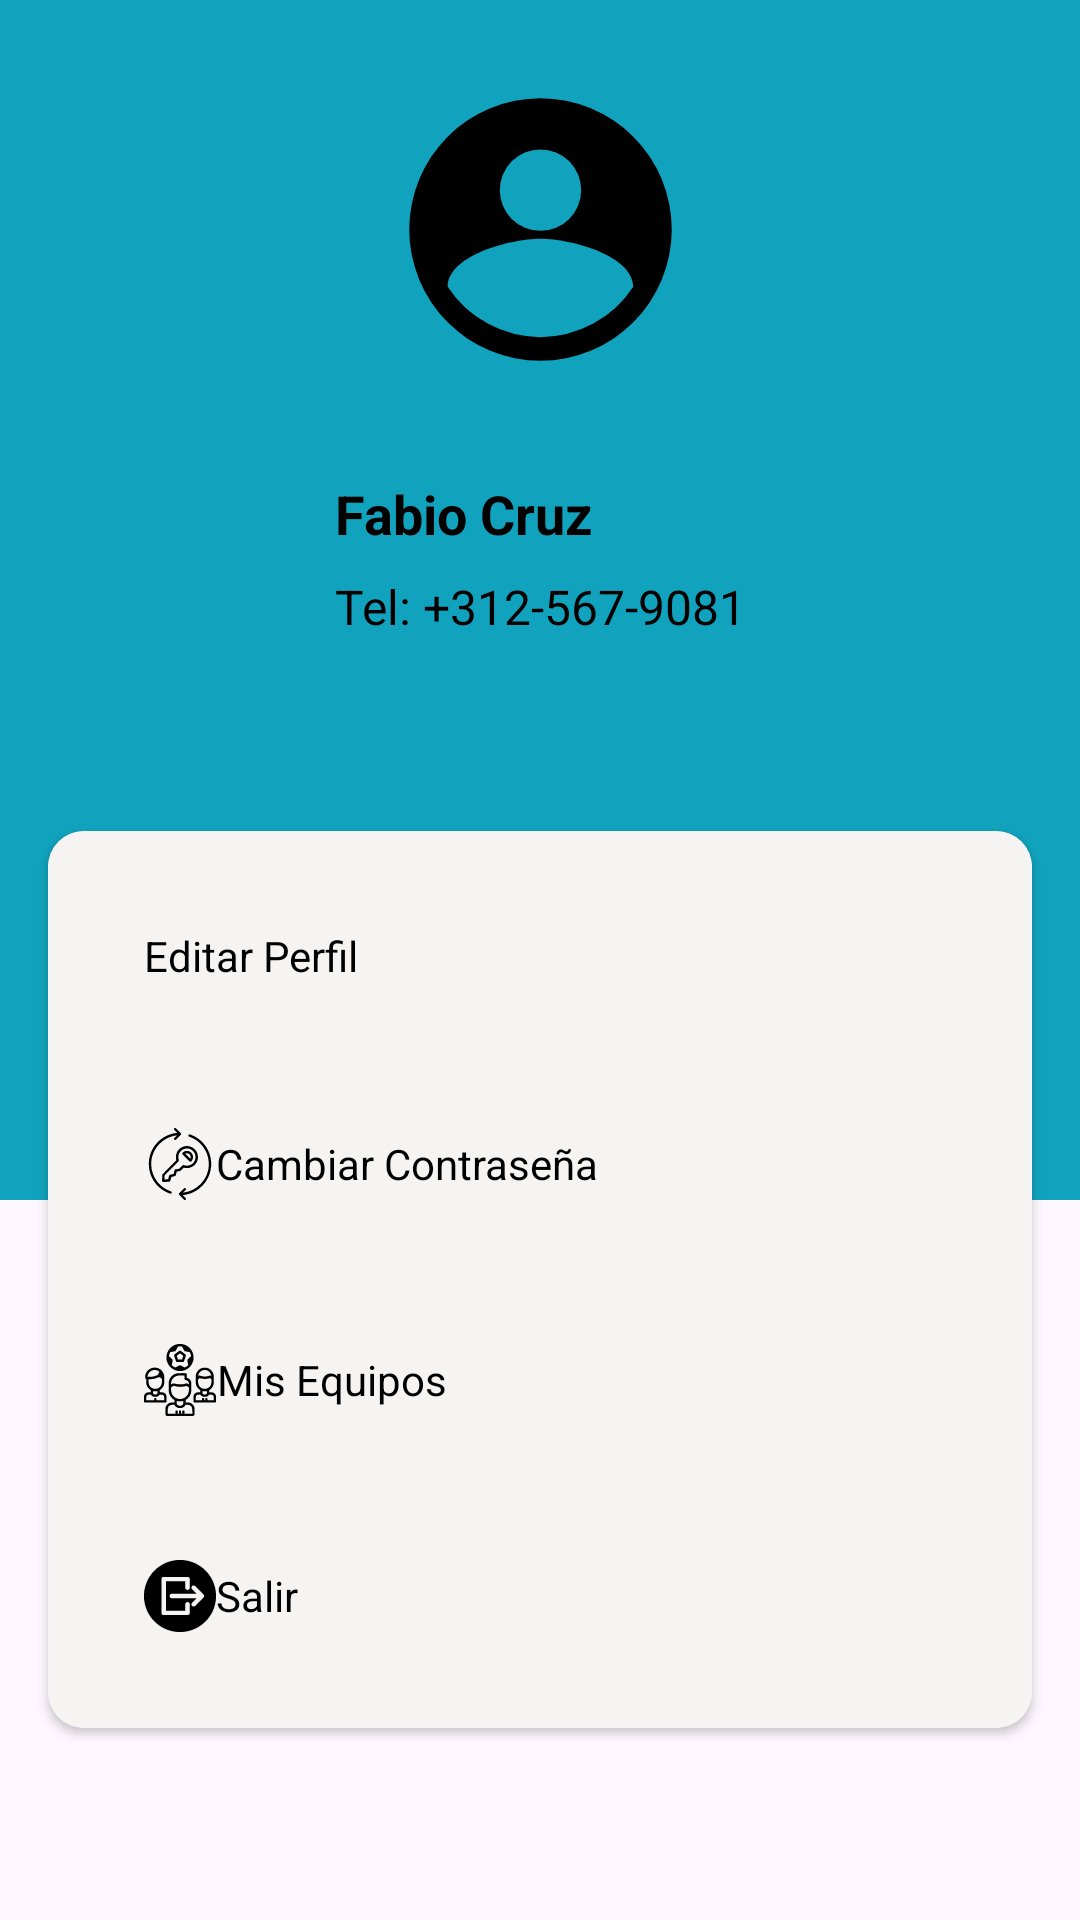

Where to tap for icons on this 1080x1920 app screen, as (x,y):
user: (540,229)
